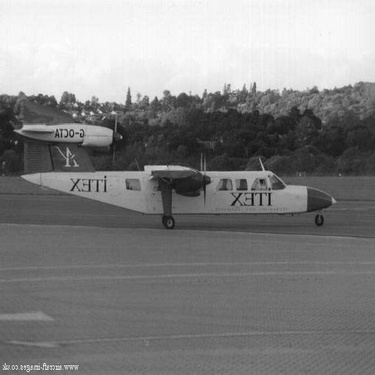airplane: (7, 104, 345, 238)
